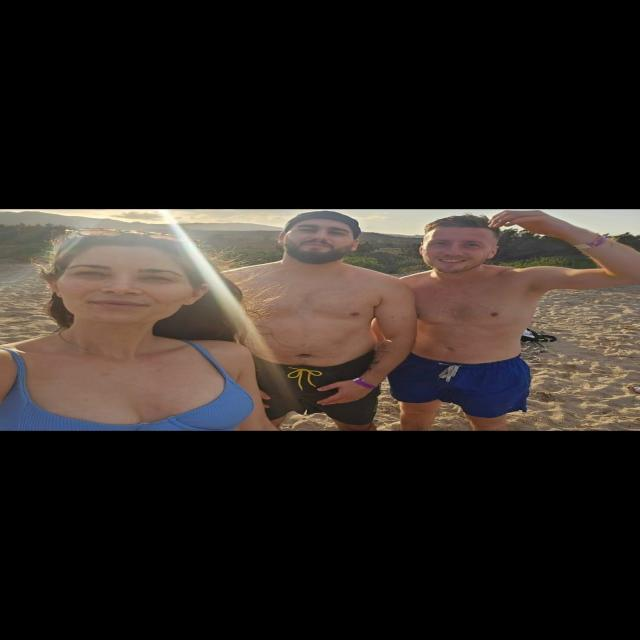Sero: (275, 211, 363, 265)
face: (44, 236, 216, 324), (414, 216, 499, 275)
